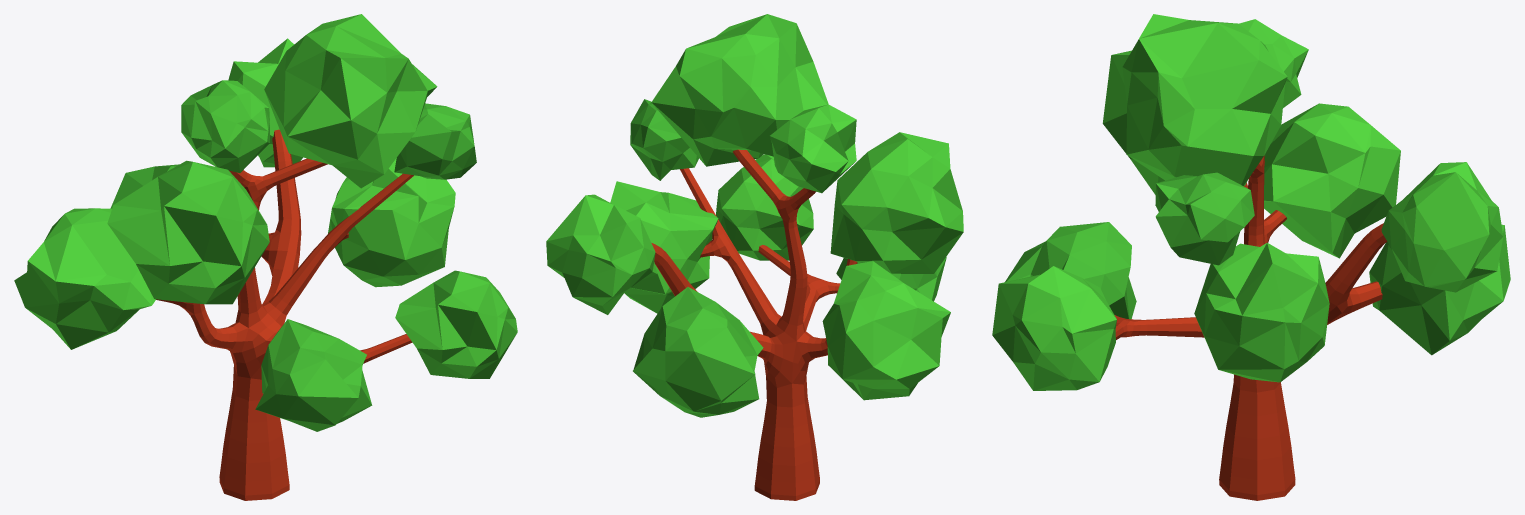
Rendered from single_tree.fbx.
3 views of the same model, side by side, from view 1: azimuth 30°, elevation 25°; view 2: azimuth 150°, elevation 25°; view 3: azimuth 270°, elevation 25° (orthographic). The views are drawn at different scales.
Visible parts, largest first — view 1: tree_leaf2, tree_leaf1, tree_mid, tree_leaf3; view 2: tree_leaf1, tree_leaf2, tree_mid, tree_leaf3; view 3: tree_leaf1, tree_leaf2, tree_leaf3, tree_mid.
Boxes of the visible parts, left/top/right/bottom form: tree_leaf2: left=107, top=80, right=517, bottom=378; tree_leaf1: left=14, top=14, right=437, bottom=349; tree_mid: left=156, top=129, right=413, bottom=500; tree_leaf3: left=110, top=103, right=476, bottom=431; tree_leaf1: left=546, top=14, right=950, bottom=400; tree_leaf2: left=610, top=104, right=963, bottom=313; tree_mid: left=651, top=149, right=857, bottom=500; tree_leaf3: left=630, top=99, right=946, bottom=417; tree_leaf1: left=1122, top=14, right=1503, bottom=292; tree_leaf2: left=992, top=19, right=1329, bottom=390; tree_leaf3: left=1005, top=172, right=1510, bottom=355; tree_mid: left=1114, top=155, right=1387, bottom=500.
Size of the model in its own units: 4178 by 4684 by 4435.
